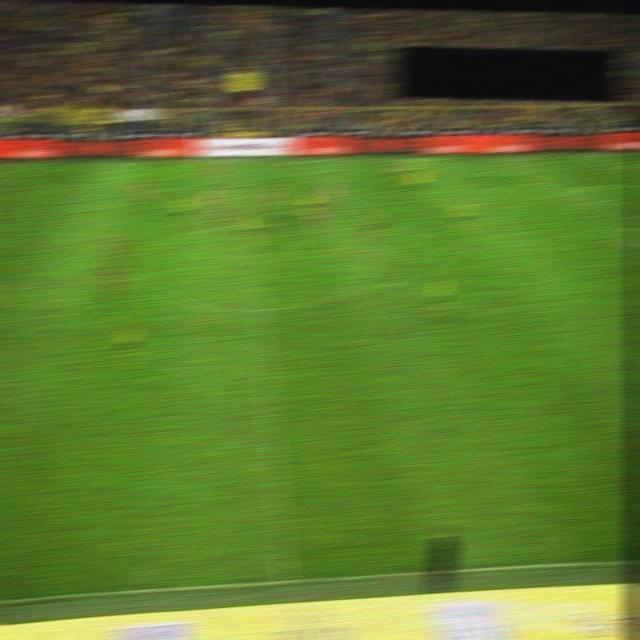bigarea_top_inner: (573, 180, 593, 192)
halfcircle_bottom: (251, 304, 271, 315)
halfcircle_top: (243, 221, 262, 233)
midline_bottom_intersection: (273, 571, 298, 590)
midline_top_intersection: (237, 154, 257, 166)
